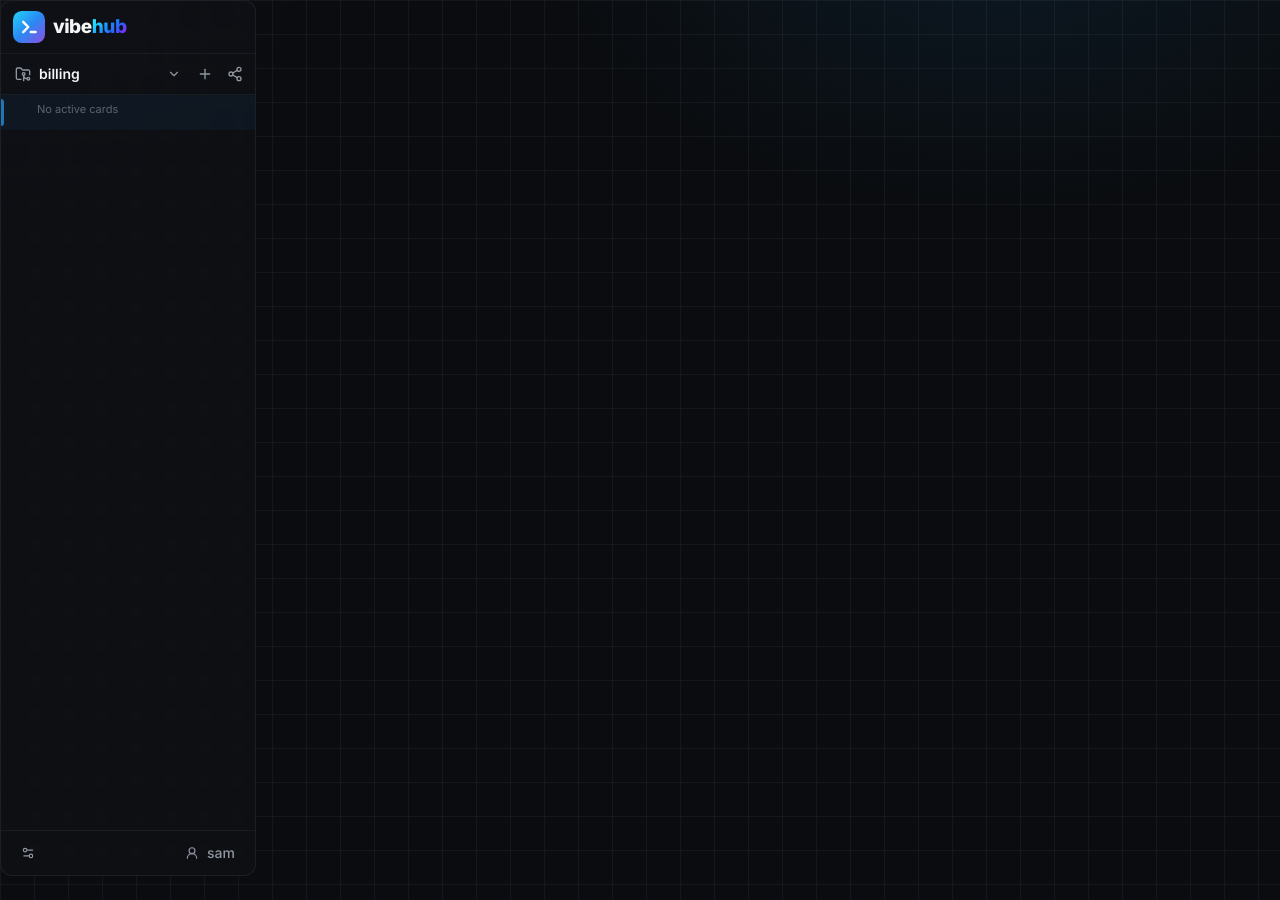
ProjectSidebar — the switcher opens the current project in a new tab › still opens the menu on a plain click, without navigating
Click the button with aria-label "Switch project" at [59, 74], box left=15, top=65, right=181, bottom=82
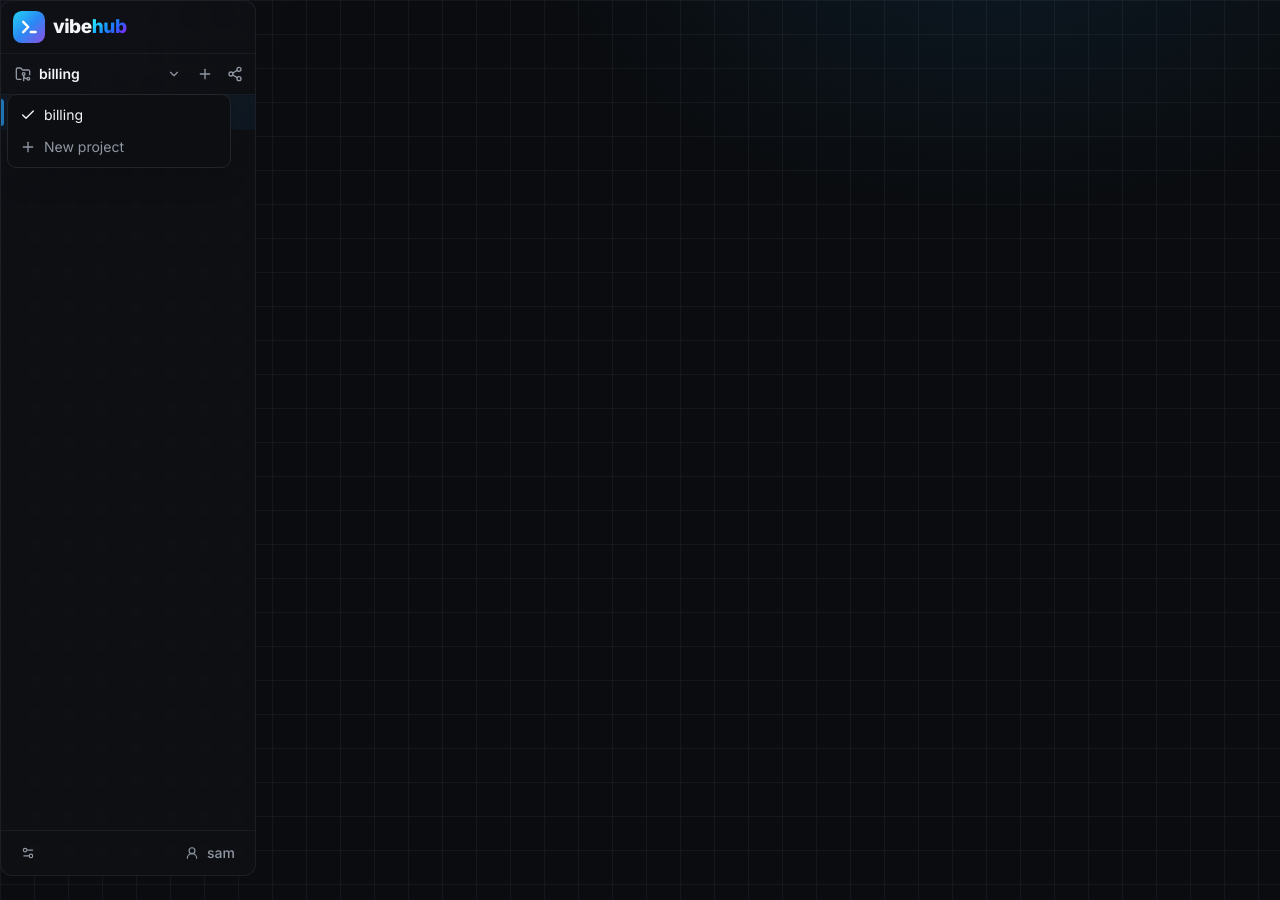
expect the menu is shown: met, box left=7, top=94, right=231, bottom=168
